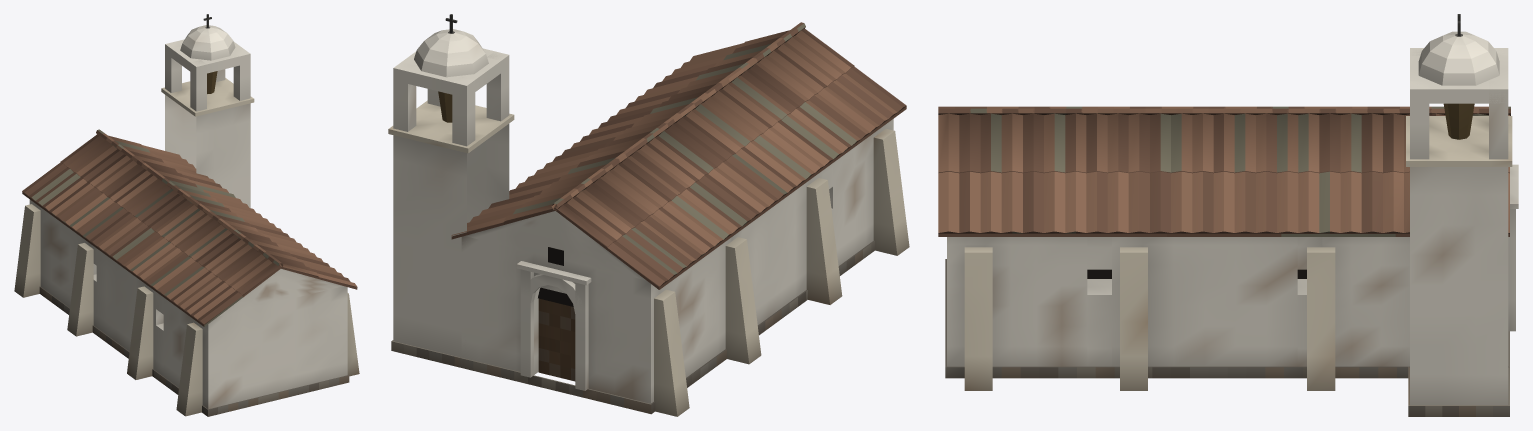
The model's file is casa_capilla_c.glb.
3 renders of one model, left to right at view 1: azimuth 30°, elevation 25°; view 2: azimuth 150°, elevation 25°; view 3: azimuth 270°, elevation 25°, orthographic. The views are drawn at different scales.
Visible parts, largest first — view 1: casa_capilla_c; view 2: casa_capilla_c; view 3: casa_capilla_c.
Part boxes in pixels (box(x1,y1,x2,y2)): casa_capilla_c: box(14, 14, 359, 416); casa_capilla_c: box(388, 14, 909, 416); casa_capilla_c: box(938, 14, 1518, 416).
Size of the model in its own units: 10.82 by 11.98 by 16.55.
